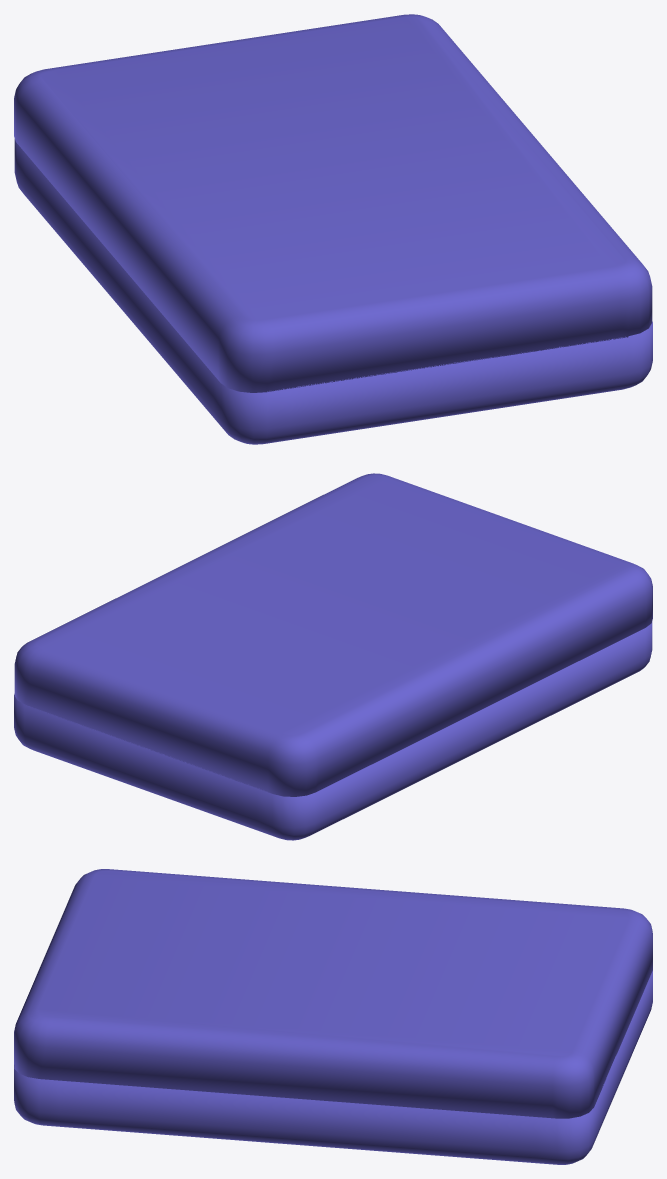
The model's file is laptop andere bild.glb.
3 views of the same model, one above another, from view 1: azimuth 30°, elevation 25°; view 2: azimuth 150°, elevation 25°; view 3: azimuth 270°, elevation 25° (orthographic). The views are drawn at different scales.
Visible parts, largest first — view 1: Plane.001, Plane; view 2: Plane.001, Plane; view 3: Plane.001, Plane.
Part boxes in pixels (x1=…): Plane.001: x1=14, y1=14, x2=652, y2=392; Plane: x1=14, y1=139, x2=652, y2=444; Plane.001: x1=14, y1=473, x2=652, y2=796; Plane: x1=14, y1=621, x2=652, y2=840; Plane.001: x1=14, y1=869, x2=652, y2=1118; Plane: x1=14, y1=970, x2=652, y2=1164.
Size of the model in its own units: 0.7629 by 0.1838 by 1.01.
